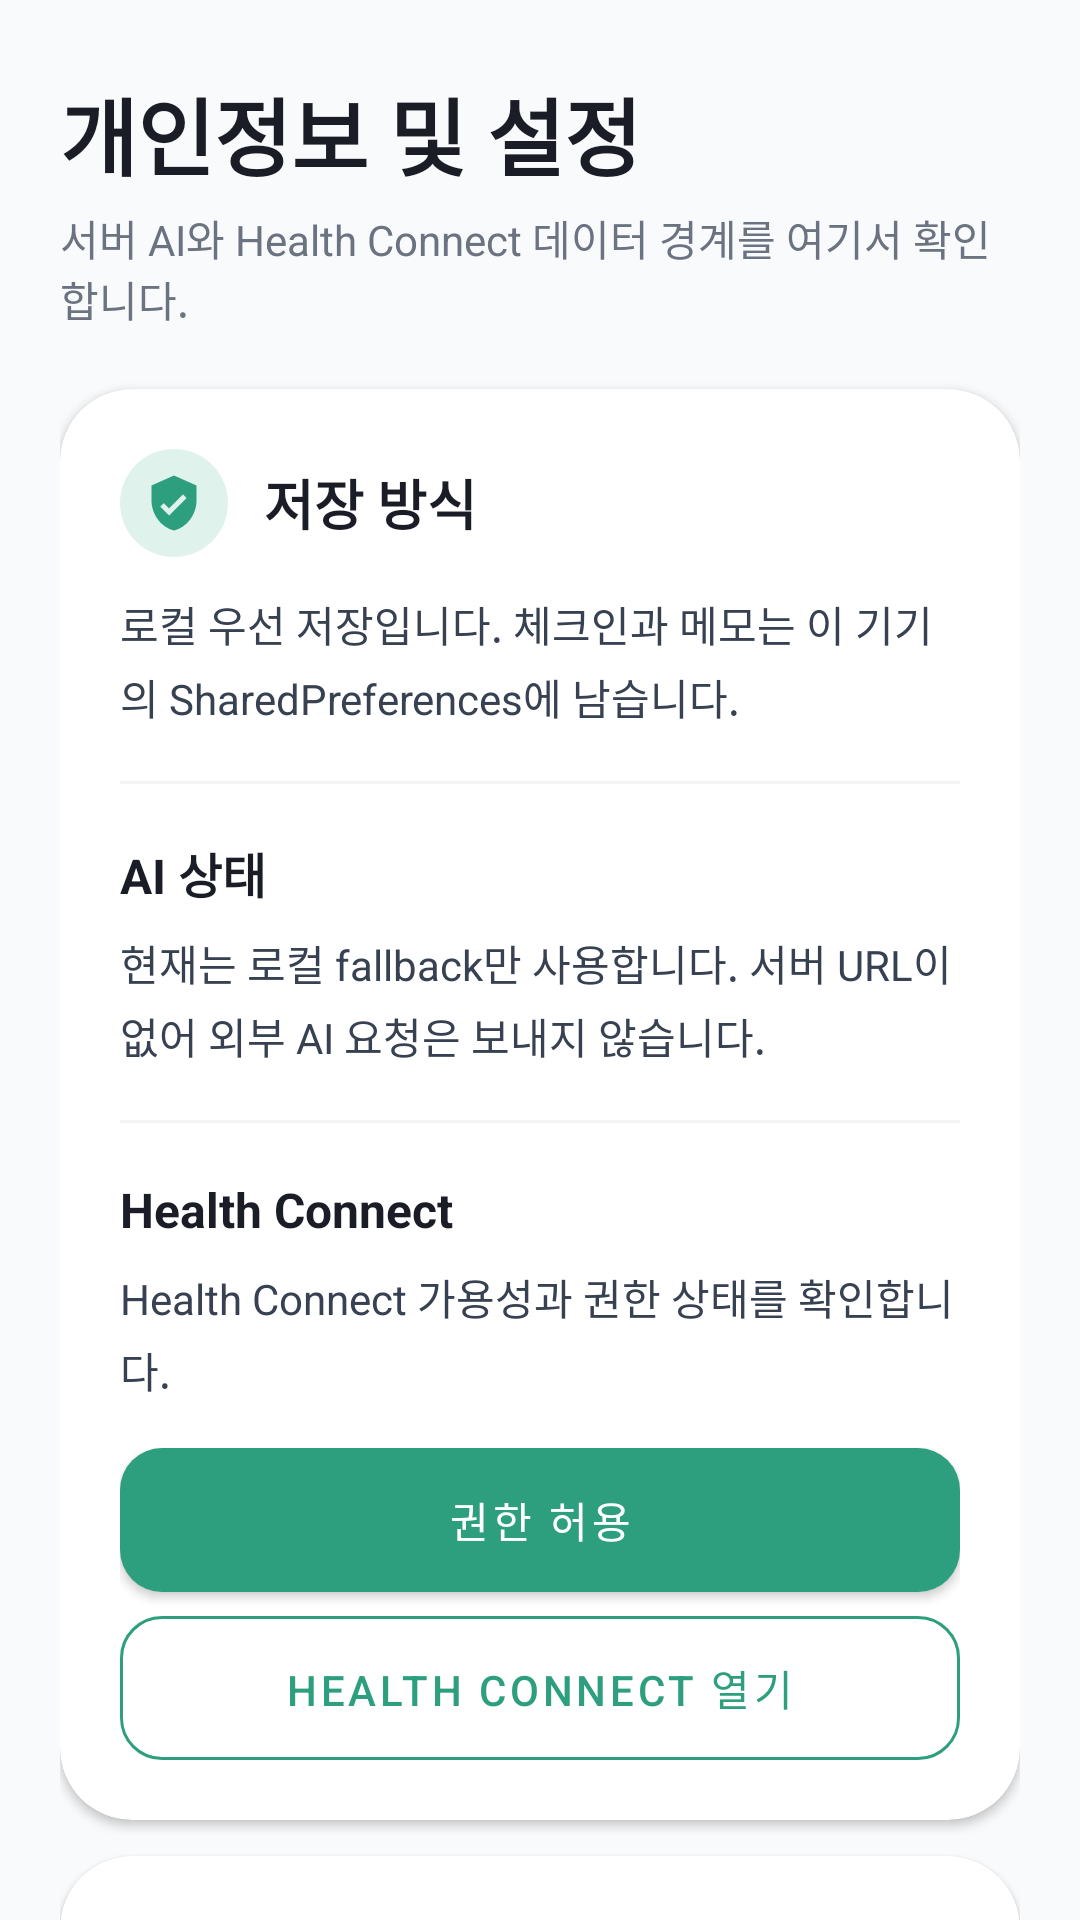

Icon bounding boxes for this 1080*1920 phone screenshot, format [x1, y1, x2, y2]:
shield: [151, 475, 197, 531]
